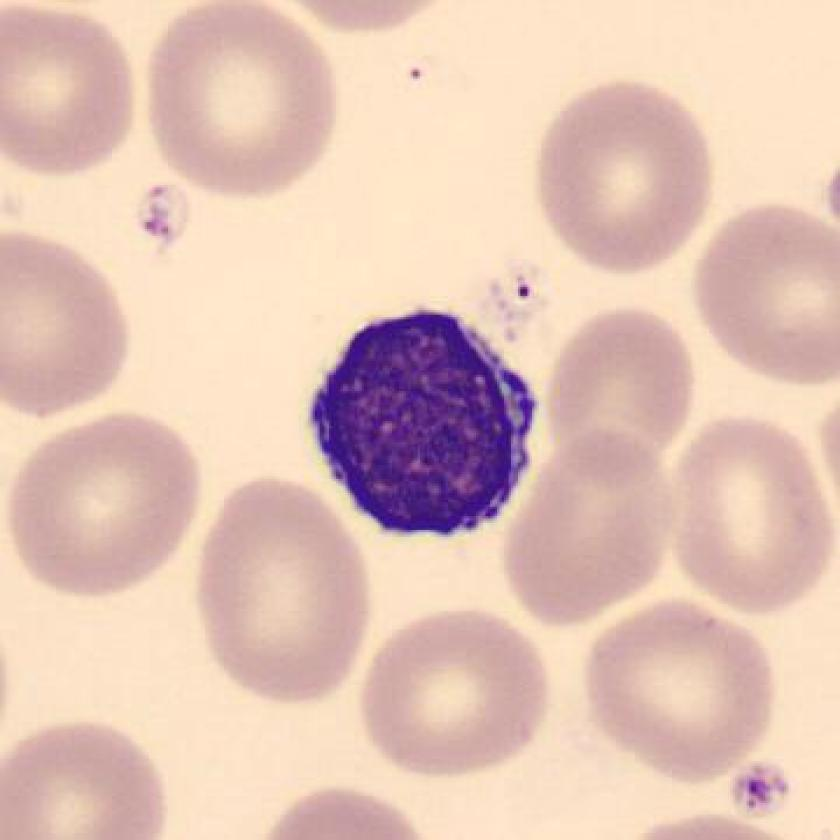lymphocyte: (300, 286, 547, 556)
